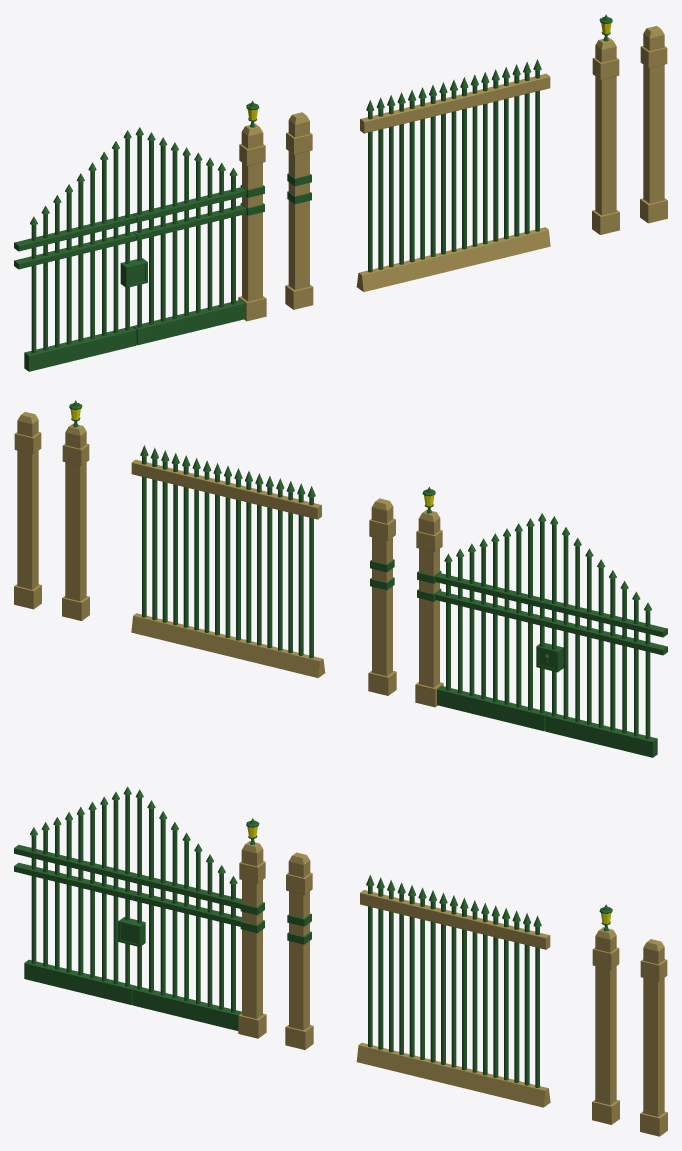
Rendered from Wall_Gate_Fixed.fbx.
3 renders of one model, top to bottom at view 1: azimuth 30°, elevation 25°; view 2: azimuth 150°, elevation 25°; view 3: azimuth 330°, elevation 25°, orthographic.
Visible parts, largest first — view 1: Cone, Cone.002, Cone.001, Lamb.001, Cone.004, Lamb.002, Lamb; view 2: Cone, Cone.002, Cone.001, Lamb.001, Lamb.002, Lamb, Cone.004; view 3: Cone, Cone.002, Cone.001, Lamb.001, Lamb, Lamb.002, Cone.004.
Part boxes in pixels (<box>): Cone: <box>356,59,550,291</box>; Cone.002: <box>14,130,147,371</box>; Cone.001: <box>132,127,246,345</box>; Lamb.001: <box>592,14,619,234</box>; Cone.004: <box>285,112,313,309</box>; Lamb.002: <box>640,26,667,223</box>; Lamb: <box>238,100,266,321</box>; Cone: <box>131,445,325,677</box>; Cone.002: <box>536,516,667,757</box>; Cone.001: <box>435,513,549,731</box>; Lamb.001: <box>62,400,89,620</box>; Lamb.002: <box>14,412,41,609</box>; Lamb: <box>415,486,443,707</box>; Cone.004: <box>368,498,396,695</box>; Cone: <box>356,875,550,1107</box>; Cone.002: <box>14,786,145,1004</box>; Cone.001: <box>132,789,241,1030</box>; Lamb.001: <box>592,904,619,1124</box>; Lamb: <box>238,818,266,1038</box>; Lamb.002: <box>640,939,667,1136</box>; Cone.004: <box>285,852,313,1049</box>.
Size of the model in its own units: 1611 by 515 by 36.25.
